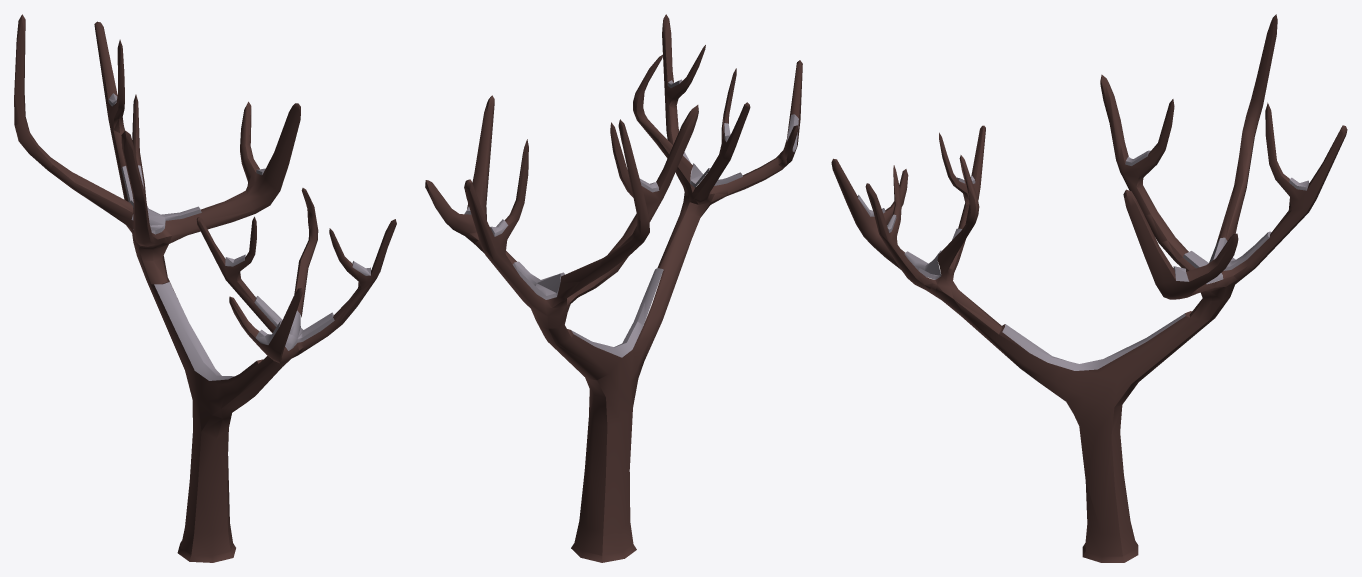
Rendered from tree_dead_snow_1.glb.
3 renders of one model, left to right at view 1: azimuth 30°, elevation 25°; view 2: azimuth 150°, elevation 25°; view 3: azimuth 270°, elevation 25°, orthographic. The views are drawn at different scales.
Visible parts, largest first — view 1: tree_dead_snow_1; view 2: tree_dead_snow_1; view 3: tree_dead_snow_1.
Boxes of the visible parts, x1,y1,x2,y2 form: tree_dead_snow_1: (14,14,396,562); tree_dead_snow_1: (425,14,802,562); tree_dead_snow_1: (831,14,1347,562).
Size of the model in its own units: 2.59 by 5.49 by 5.25.
